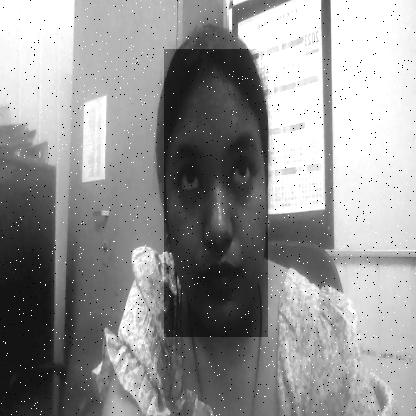Normal: (164, 49, 268, 337)
